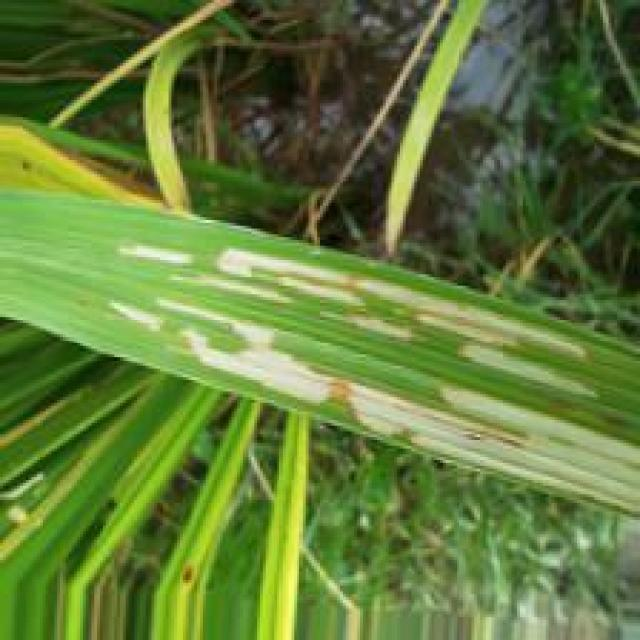Rice_Hispa: (162, 298, 640, 510), (215, 245, 595, 405)
